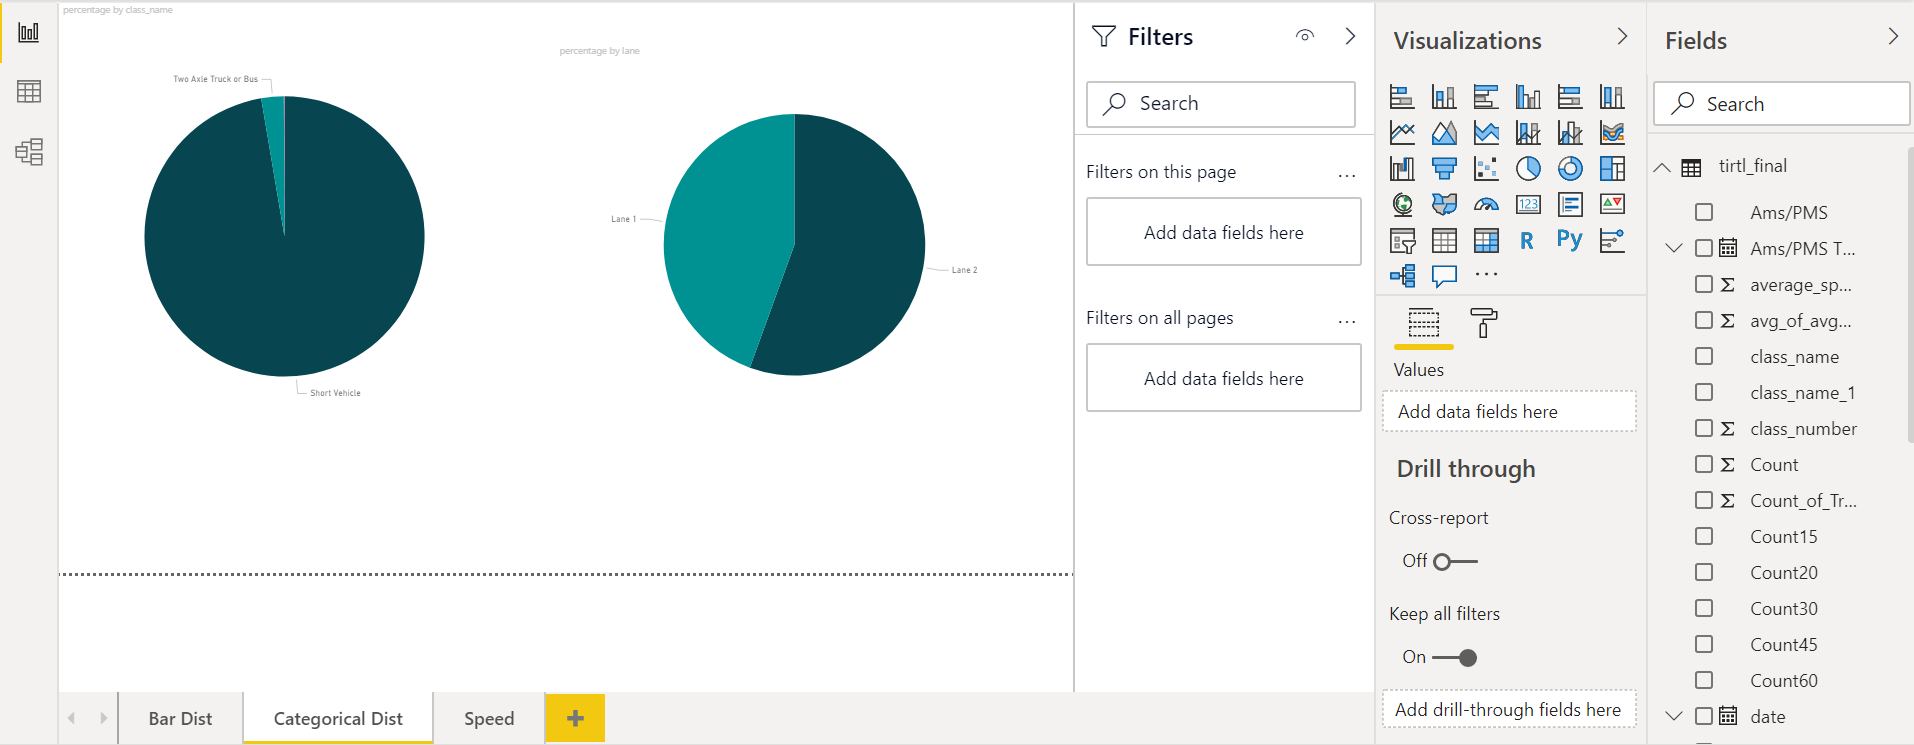

What the dashboard file says about the page in this screenshot:
{"tool":"powerbi","page":{"name":"Categorical Dist","canvas":[1280,720],"ordinal":1},"visuals":[{"type":"pieChart","fields":{"Category":["tirtl_final.class_name"],"Y":["Sum(tirtl_final.percentage)"]},"box":[0,0,569.1,572.9],"z":0},{"type":"pieChart","fields":{"Category":["tirtl_final.lane"],"Y":["Sum(tirtl_final.percentage)"]},"box":[625.8,51,603.1,491.6],"z":1000}]}

Visuals, with their boxes on the page's 1280x720 design canvas (x1, y1, x2, y2). These are canvas units, not pixel positions in the 1914x745 screenshot, which may show the page scaled, cropped or inside an application window:
pieChart - tirtl_final.class_name x Sum(tirtl_final.percentage): [left=0, top=0, right=569, bottom=573]
pieChart - tirtl_final.lane x Sum(tirtl_final.percentage): [left=626, top=51, right=1229, bottom=543]
